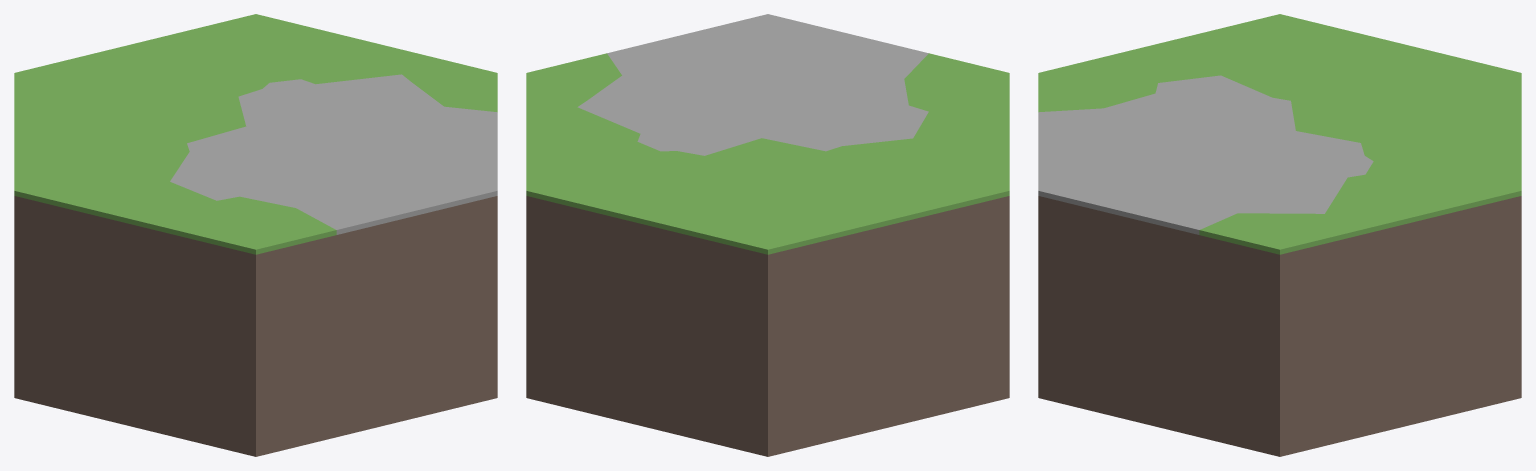
File: til2m.fbx
3 views of the same model, side by side, from view 1: azimuth 30°, elevation 25°; view 2: azimuth 150°, elevation 25°; view 3: azimuth 270°, elevation 25° (orthographic).
Visible parts, largest first — view 1: Tile22; view 2: Tile22; view 3: Tile22.
Boxes of the visible parts, x1,y1,x2,y2 form: Tile22: (14,14,497,456); Tile22: (526,14,1009,456); Tile22: (1038,14,1521,456).
Bounding box in the file's own units: 2 × 0.82 × 1.73.
